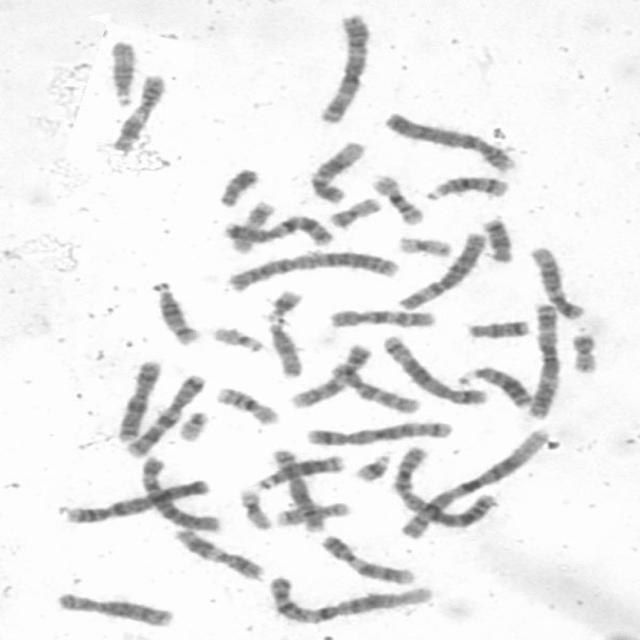A1: (390, 422, 553, 540), (259, 570, 436, 625)
A2: (387, 440, 501, 530), (217, 244, 403, 292)
A3: (310, 7, 373, 125), (520, 297, 564, 420)
B4: (377, 106, 520, 173), (57, 472, 213, 525)
B5: (375, 328, 491, 407), (298, 414, 456, 448)
C10: (322, 356, 424, 415), (322, 302, 440, 329)
C11: (166, 523, 267, 582), (105, 68, 168, 153)
C12: (522, 240, 587, 320), (302, 135, 368, 204)
C6: (391, 226, 490, 311), (133, 450, 224, 532)
C7: (118, 367, 208, 459), (215, 209, 335, 248)
C8: (264, 442, 326, 533), (48, 586, 177, 628)
C9: (282, 338, 374, 410), (314, 529, 419, 586)
D13: (453, 360, 535, 410), (249, 449, 346, 491)
D14: (144, 275, 202, 346), (417, 169, 513, 202)
D15: (261, 314, 306, 378), (102, 35, 139, 108)
E16: (365, 168, 427, 226), (209, 380, 282, 426)
E17: (224, 196, 278, 254), (270, 496, 355, 527)
E18: (475, 212, 516, 264), (460, 313, 532, 340)
F19: (232, 483, 274, 531), (390, 230, 456, 258)
F20: (322, 191, 384, 230), (562, 326, 600, 375)
G21: (257, 283, 305, 322), (347, 446, 394, 484)
G22: (205, 321, 267, 354), (171, 404, 212, 443)
X: (109, 353, 164, 444)
Y: (211, 162, 262, 208)
